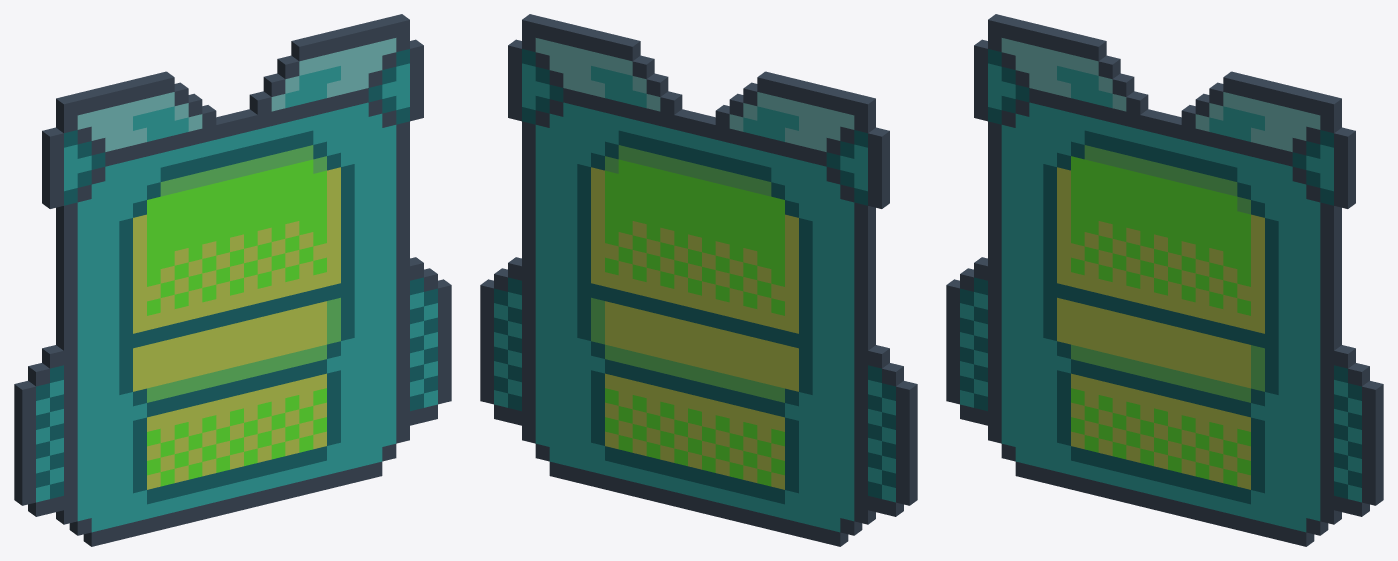
The model's file is инвентарь.obj.
3 views of the same model, side by side, from view 1: azimuth 30°, elevation 25°; view 2: azimuth 150°, elevation 25°; view 3: azimuth 330°, elevation 25° (orthographic).
Bounding box in the file's own units: 3.1 × 3.1 × 0.1.
1 material, 1 textured.
